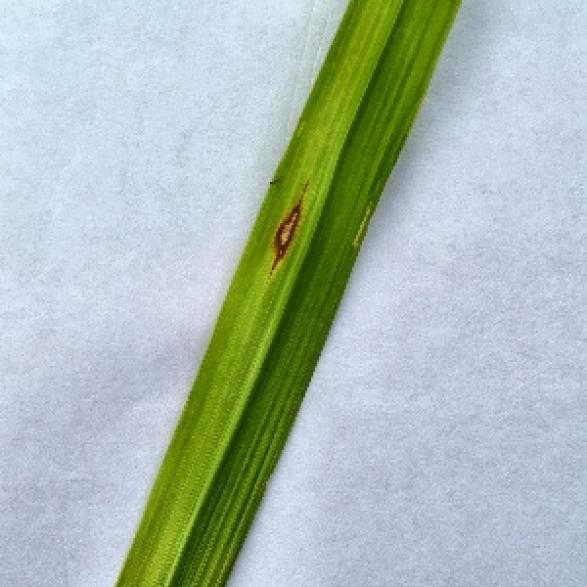Leaf_smut: (237, 156, 348, 336)
